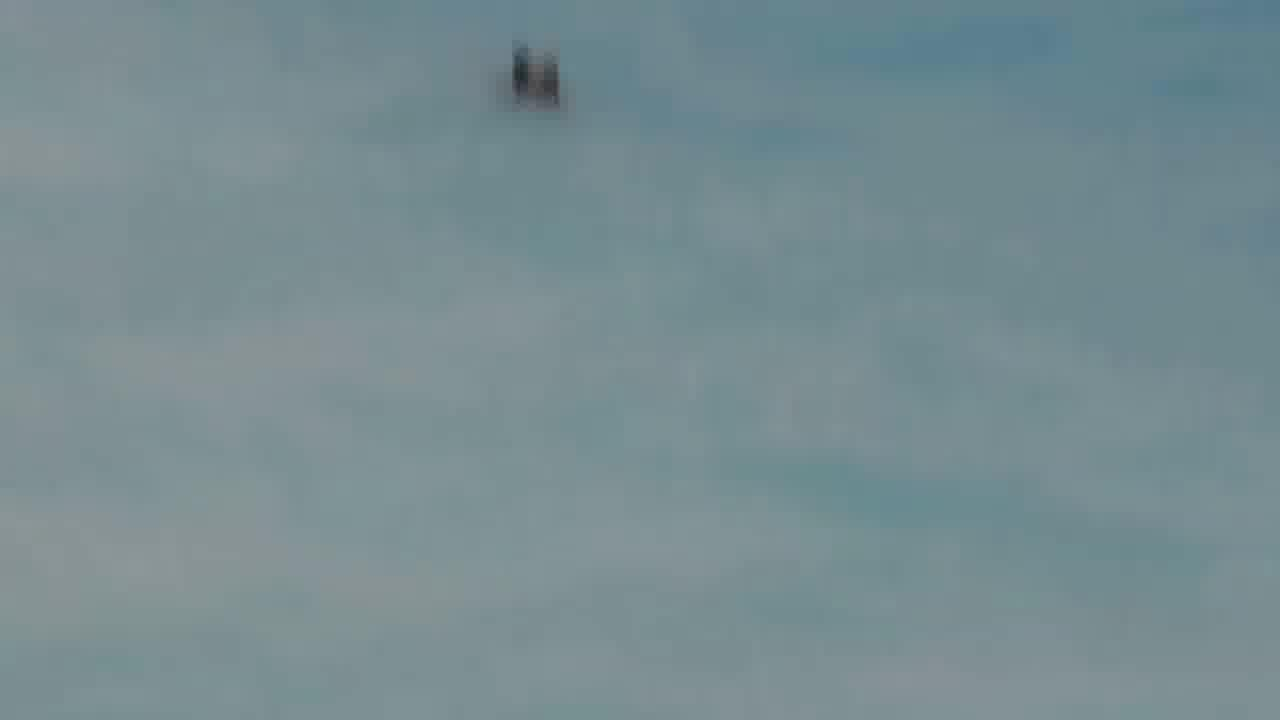human: (504, 44, 573, 108)
